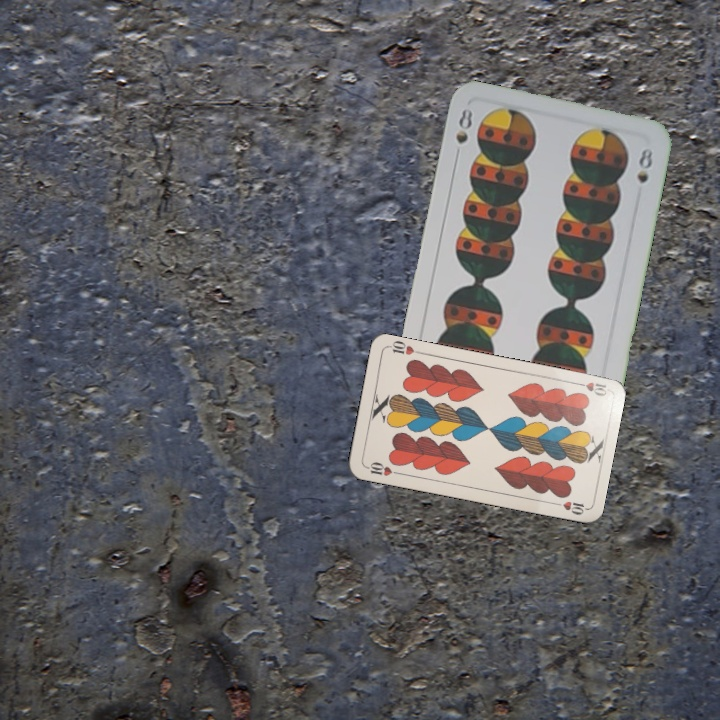H10: (362, 458, 402, 479), (570, 378, 609, 399)
S8: (452, 104, 475, 147)
